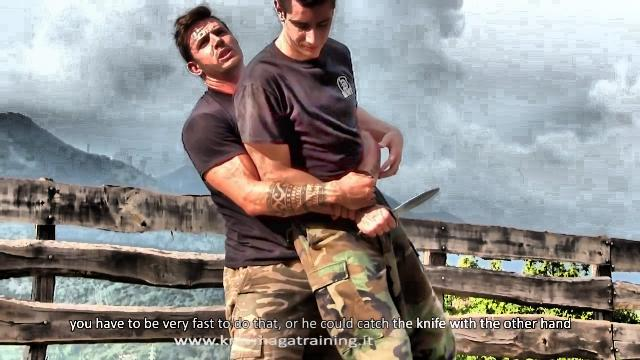knife: (354, 184, 442, 241)
